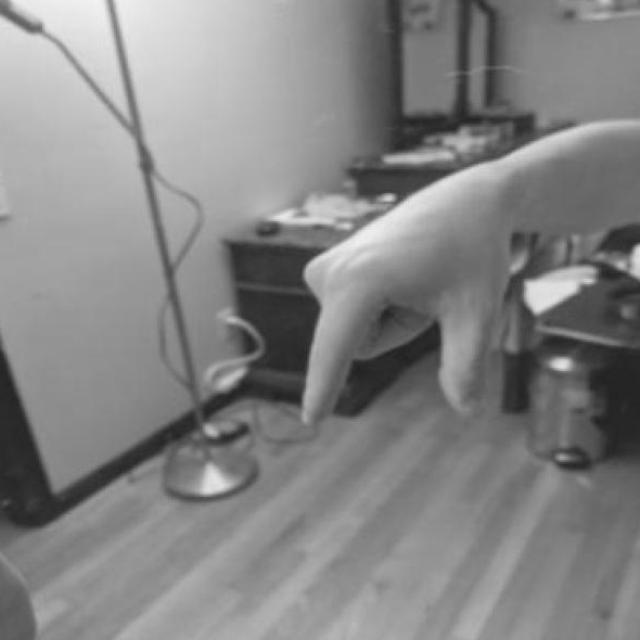Q: (274, 171, 557, 476)
